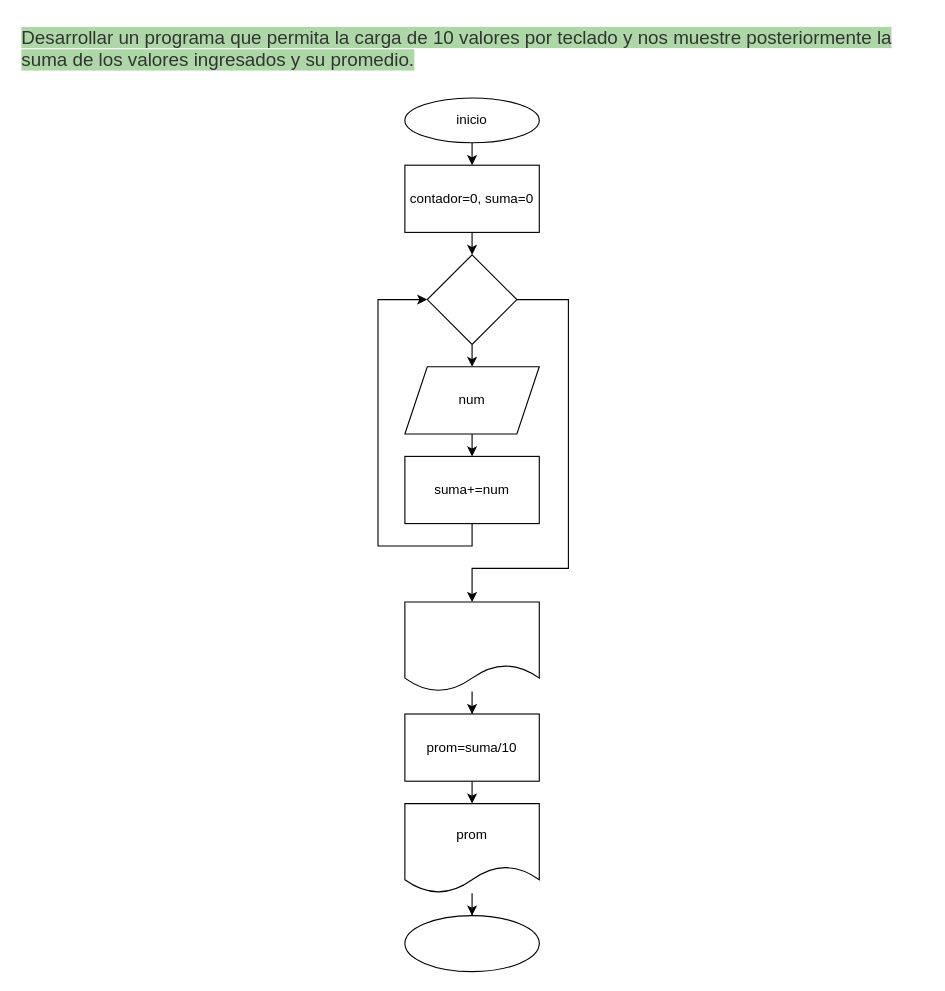
Image size: 945x991. Some labels were removed from this diagram. Each missing label, with the box of its shape:
contador<10: (426, 254, 517, 344)
fin: (404, 914, 539, 972)
suma: (404, 601, 539, 692)
